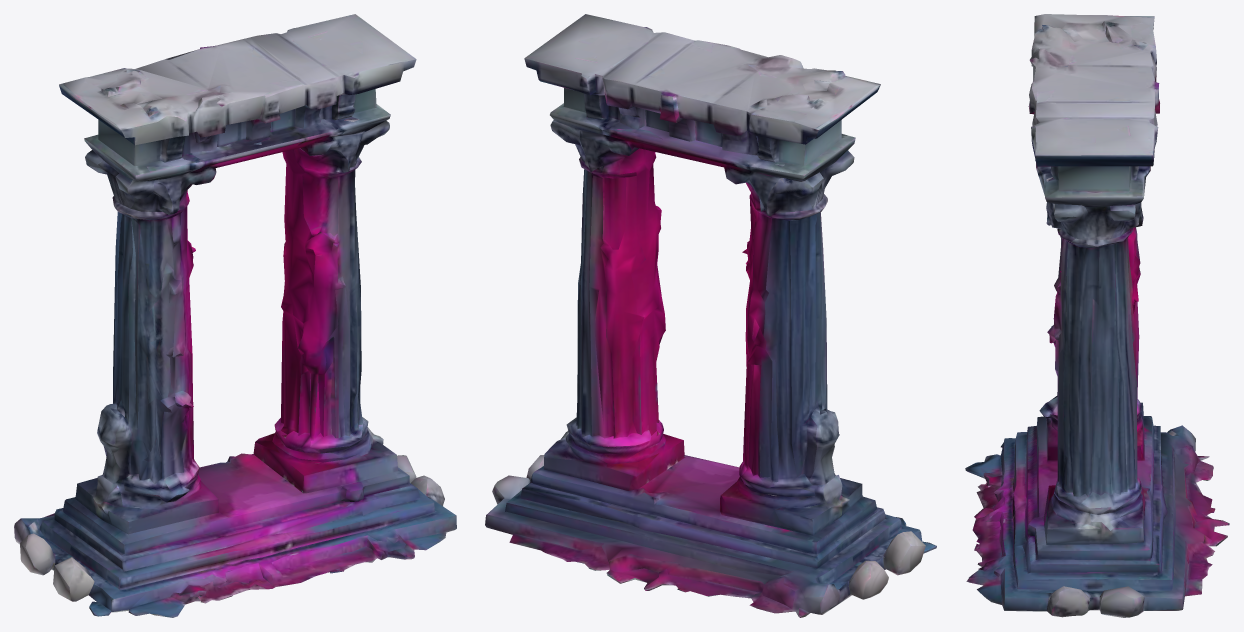
The model's file is yggdrasil-arrival-column-left.collider.glb.
3 renders of one model, left to right at view 1: azimuth 30°, elevation 25°; view 2: azimuth 150°, elevation 25°; view 3: azimuth 270°, elevation 25°, orthographic. The views are drawn at different scales.
Visible parts, largest first — view 1: temp_mesh.ply; view 2: temp_mesh.ply; view 3: temp_mesh.ply.
Part boxes in pixels (x1,y1,x2,y2): temp_mesh.ply: [14, 14, 456, 617]; temp_mesh.ply: [485, 14, 936, 617]; temp_mesh.ply: [965, 14, 1229, 617].
Bounding box in the file's own units: 1.68 × 1.97 × 1.04.
1 material, 1 textured.
